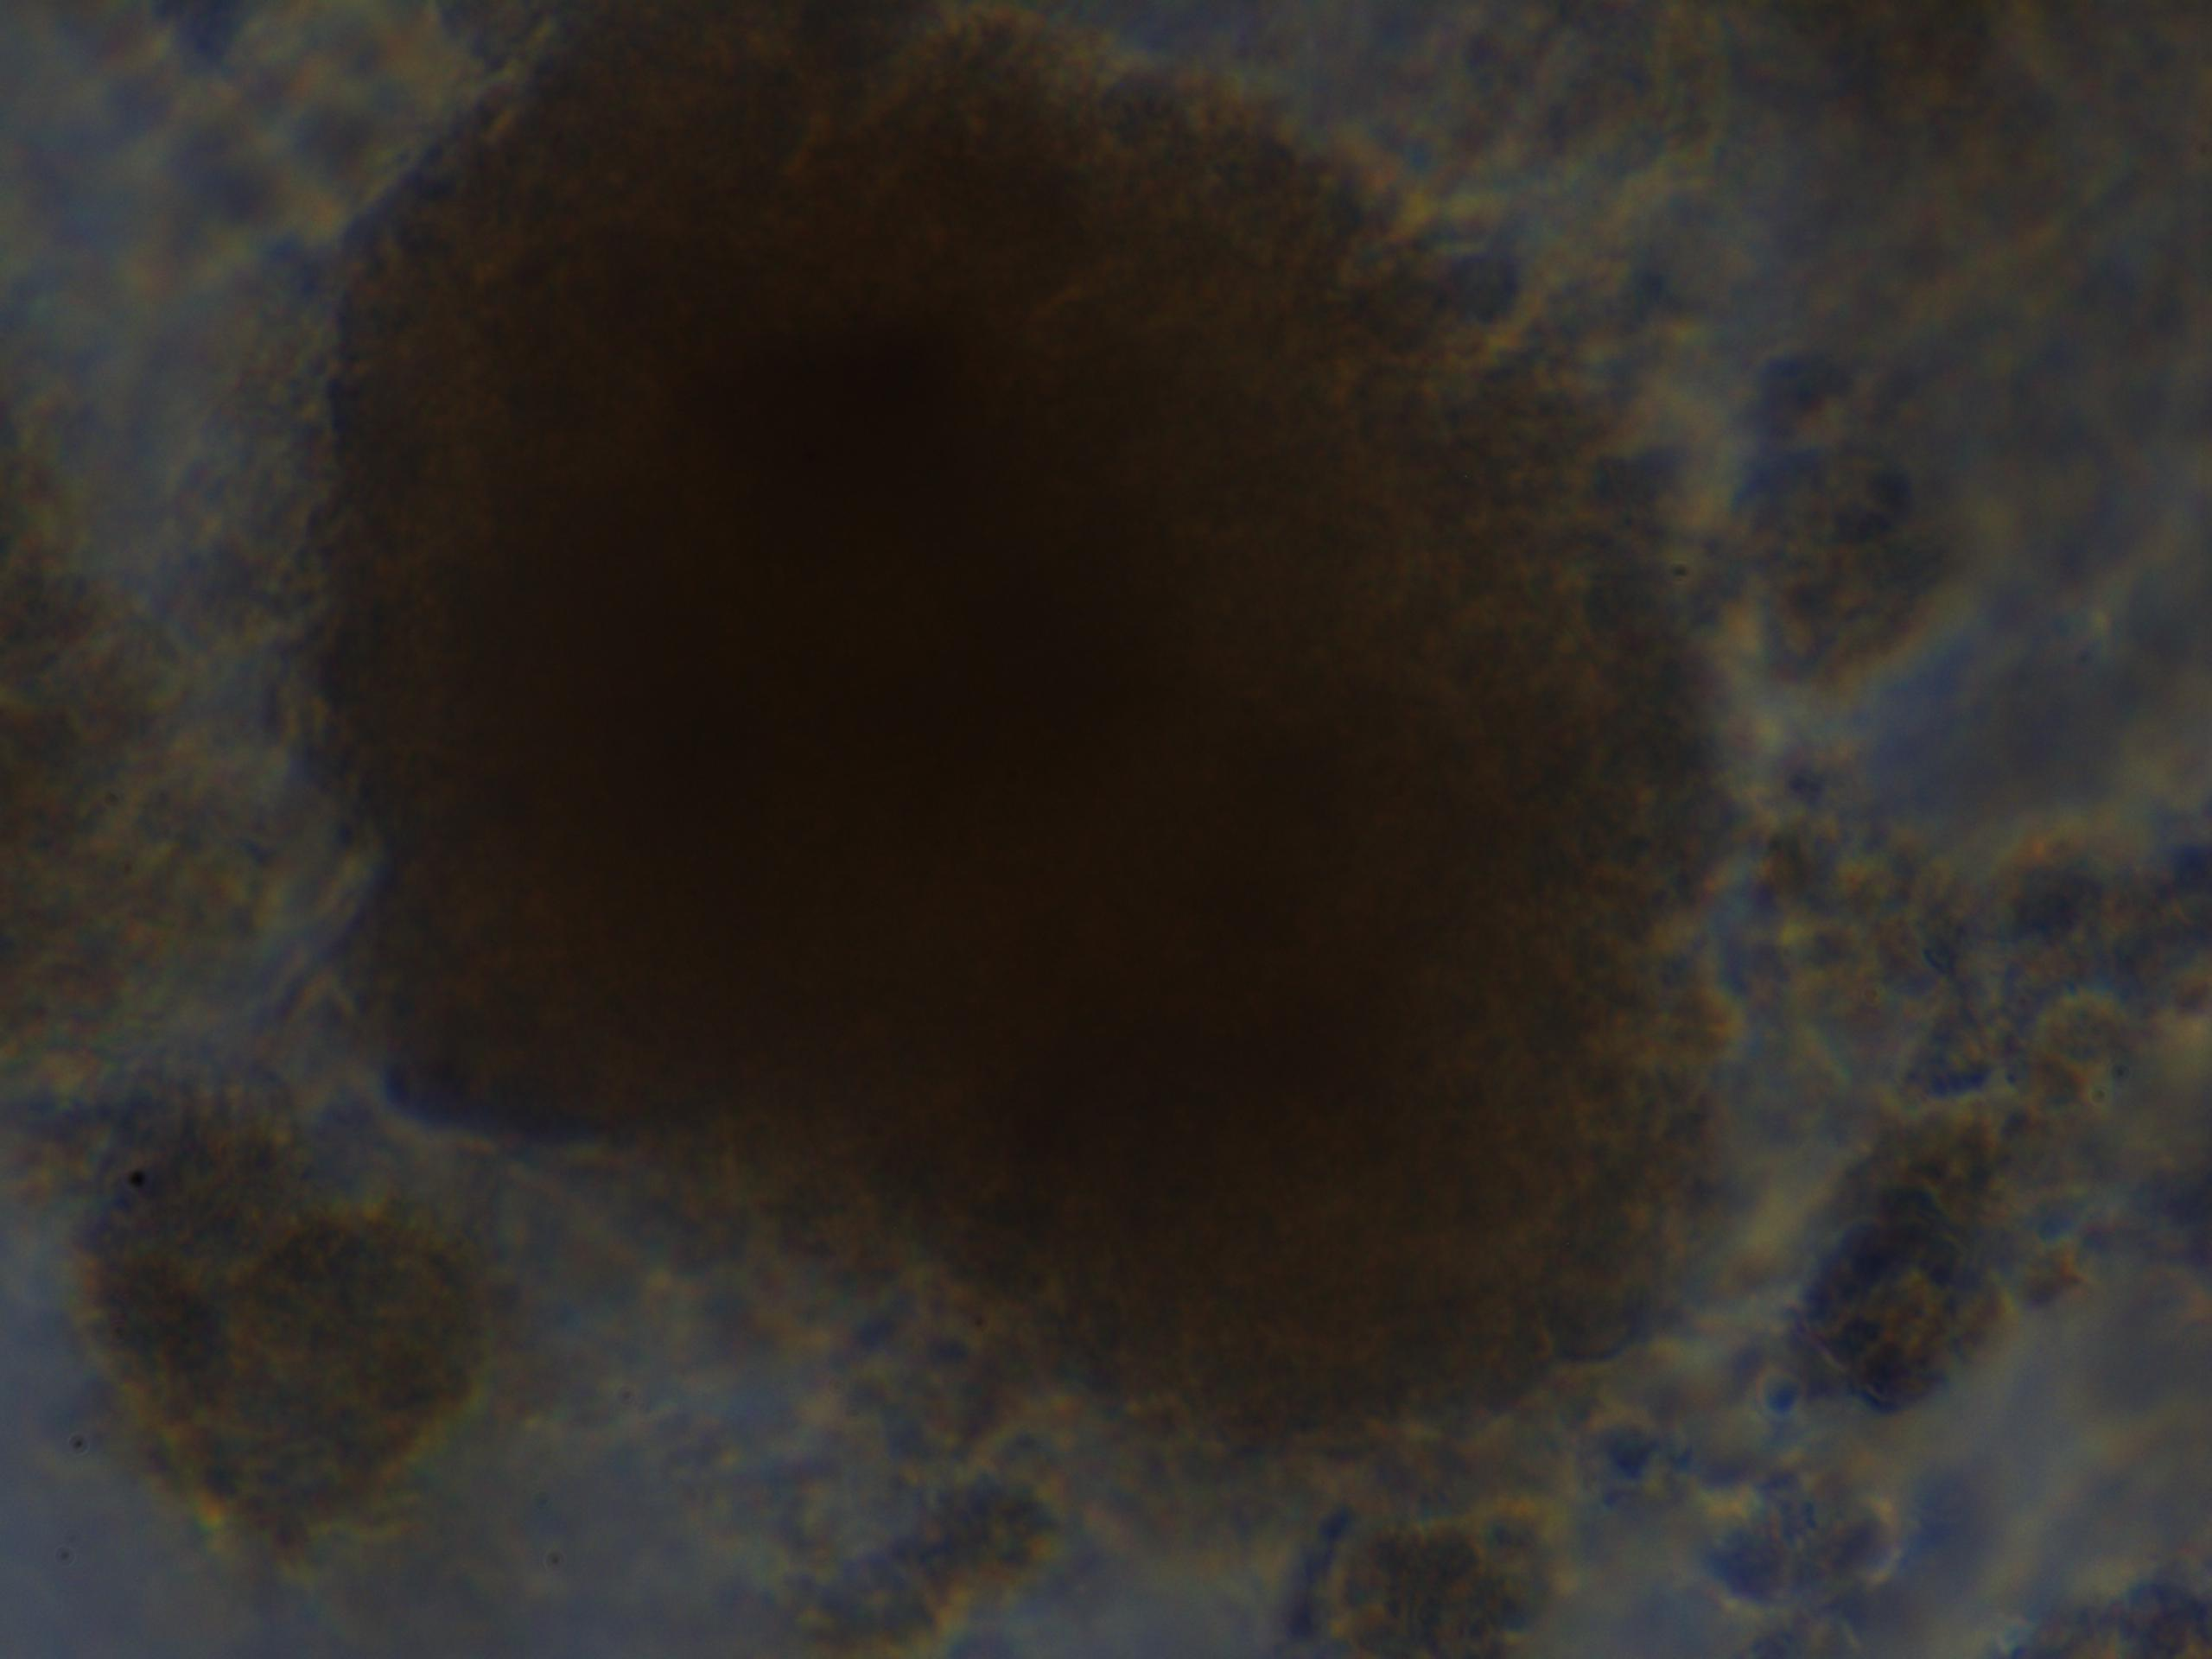spherical_floc: (298, 0, 1796, 1439)
